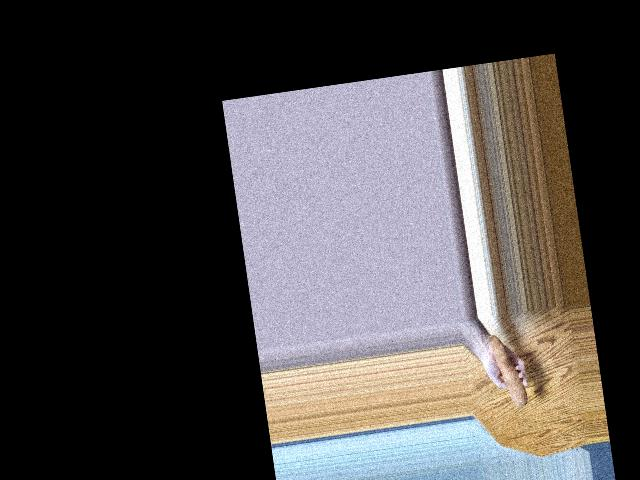sweet_potato: (491, 335, 529, 406)
